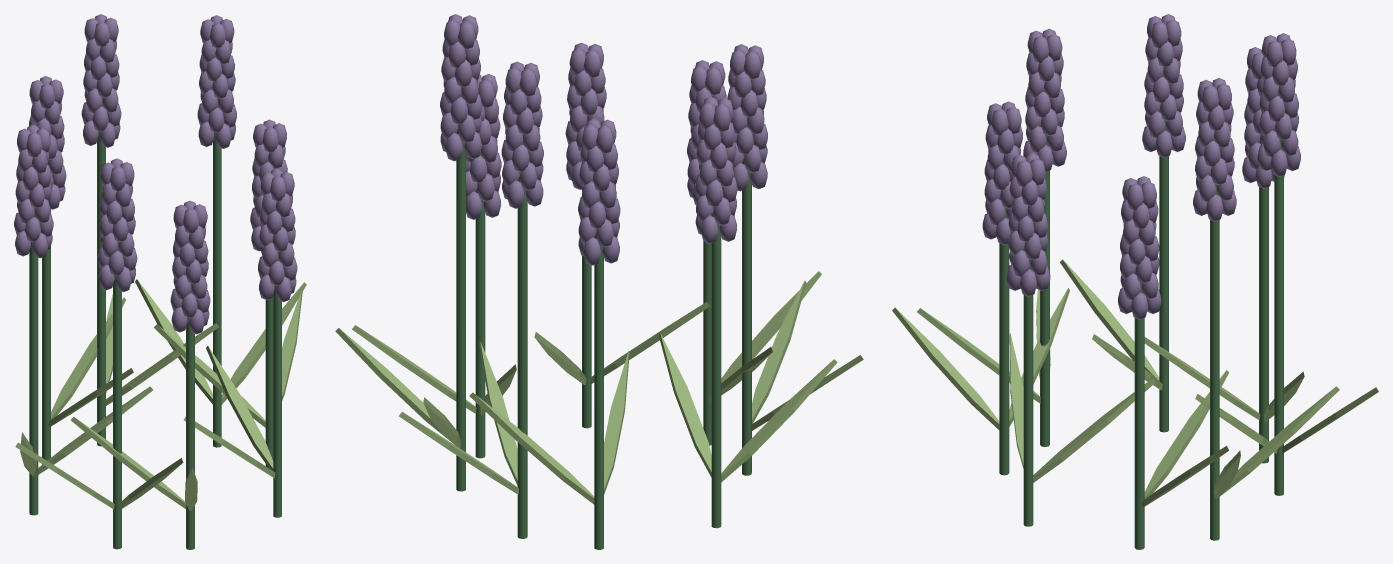
The model's file is almanac-gardens-lavender-bush-b2dd1977__22046.glb.
3 renders of one model, left to right at view 1: azimuth 30°, elevation 25°; view 2: azimuth 150°, elevation 25°; view 3: azimuth 270°, elevation 25°, orthographic. The views are drawn at different scales.
Visible parts, largest first — view 1: lavender-bush-purple, lavender-bush-leaf, lavender-bush-sage; view 2: lavender-bush-purple, lavender-bush-leaf, lavender-bush-sage; view 3: lavender-bush-purple, lavender-bush-leaf, lavender-bush-sage.
Part boxes in pixels (<box>): lavender-bush-purple: <box>14,14,297,334</box>; lavender-bush-leaf: <box>29,97,281,549</box>; lavender-bush-sage: <box>15,279,306,510</box>; lavender-bush-purple: <box>440,14,767,265</box>; lavender-bush-leaf: <box>456,87,751,549</box>; lavender-bush-sage: <box>335,271,863,504</box>; lavender-bush-purple: <box>982,14,1300,319</box>; lavender-bush-leaf: <box>999,76,1283,549</box>; lavender-bush-sage: <box>892,259,1378,507</box>.
Bounding box in the file's own units: 0.6795 × 0.72 × 0.6951.
